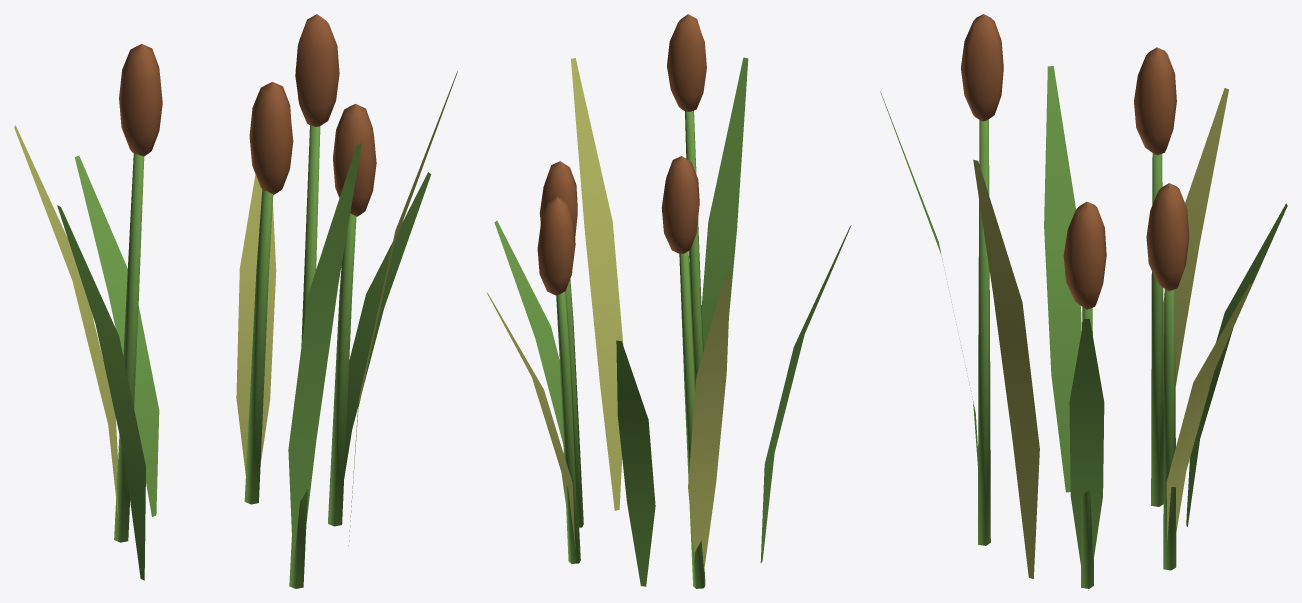
File: WR_Env_Reeds_Cattails_01.glb
3 renders of one model, left to right at view 1: azimuth 30°, elevation 25°; view 2: azimuth 150°, elevation 25°; view 3: azimuth 270°, elevation 25°, orthographic. The views are drawn at different scales.
Visible parts, largest first — view 1: WR_Env_Reeds_Cattails_01_Visual; view 2: WR_Env_Reeds_Cattails_01_Visual; view 3: WR_Env_Reeds_Cattails_01_Visual.
Part boxes in pixels (bbox=[...]): WR_Env_Reeds_Cattails_01_Visual: bbox=[14, 14, 457, 588]; WR_Env_Reeds_Cattails_01_Visual: bbox=[487, 14, 851, 588]; WR_Env_Reeds_Cattails_01_Visual: bbox=[880, 14, 1287, 588].
Bounding box in the file's own units: 0.5365 × 0.7454 × 0.5114.
